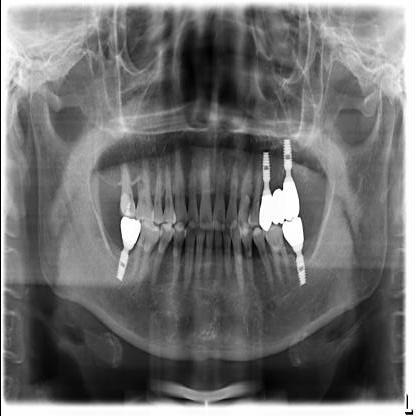Bicon: (114, 247, 132, 284), (280, 134, 295, 174), (294, 252, 310, 288), (259, 146, 273, 184)
